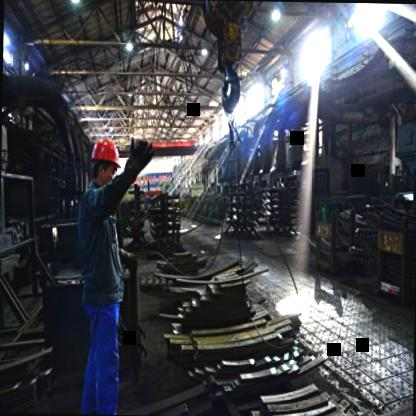helmet: (87, 133, 124, 187)
